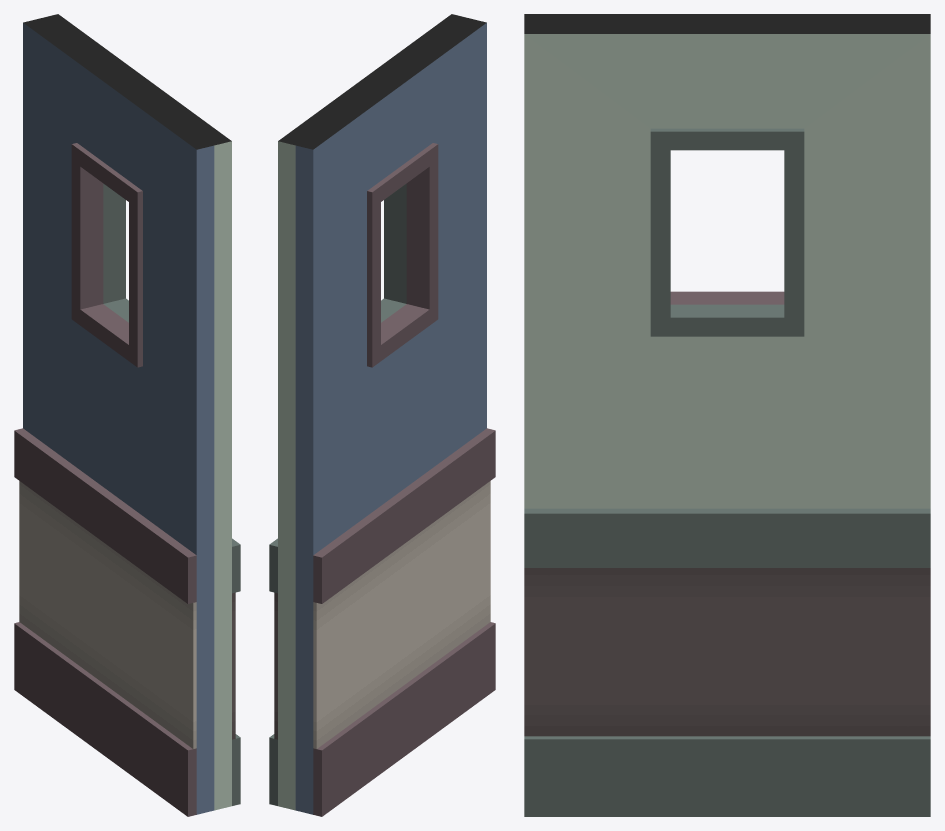
Rendered from mesh_doublewall_window_small.glb.
The picture shows the model from 3 angles, left to right: view 1: azimuth 30°, elevation 25°; view 2: azimuth 150°, elevation 25°; view 3: azimuth 270°, elevation 25°; orthographic projection. The views are drawn at different scales.
Parts seen in each view (by area): view 1: mesh_doublewall_window_small_mat_wall_inside_2_0; view 2: mesh_doublewall_window_small_mat_wall_inside_2_0; view 3: mesh_doublewall_window_small_mat_wall_inside_2_0.
Part boxes in pixels (box(x1,y1,x2,y2)): mesh_doublewall_window_small_mat_wall_inside_2_0: box(14, 14, 240, 816); mesh_doublewall_window_small_mat_wall_inside_2_0: box(269, 14, 495, 816); mesh_doublewall_window_small_mat_wall_inside_2_0: box(524, 14, 930, 816).
Bounding box in the file's own units: 0.2881 × 3.46 × 1.64.
2 materials, 2 textured.
